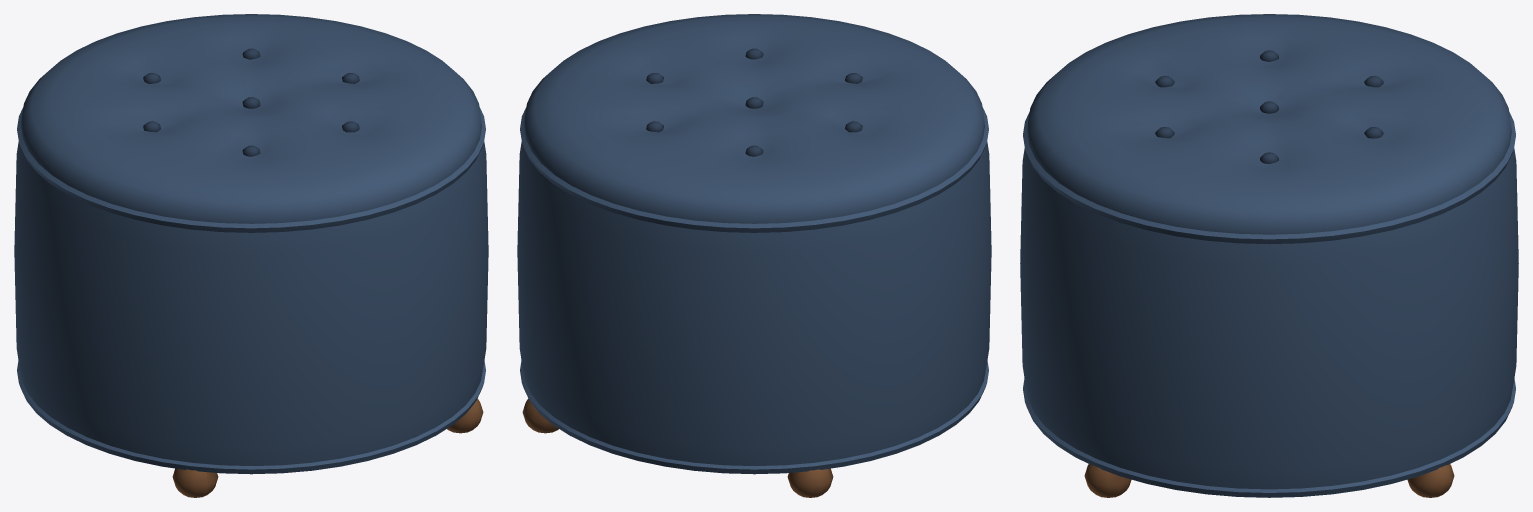
The model's file is ottoman.glb.
3 views of the same model, side by side, from view 1: azimuth 30°, elevation 25°; view 2: azimuth 150°, elevation 25°; view 3: azimuth 270°, elevation 25° (orthographic). The views are drawn at different scales.
Visible parts, largest first — view 1: ottoman, seat; view 2: ottoman, seat; view 3: ottoman, seat.
Part boxes in pixels (x1,y1,x2,y2): ottoman: (14,107,488,497); seat: (21,14,481,223); ottoman: (517,107,991,497); seat: (524,14,984,223); ottoman: (1020,112,1518,497); seat: (1027,14,1511,234).
Bounding box in the file's own units: 0.62 × 0.4428 × 0.62.
